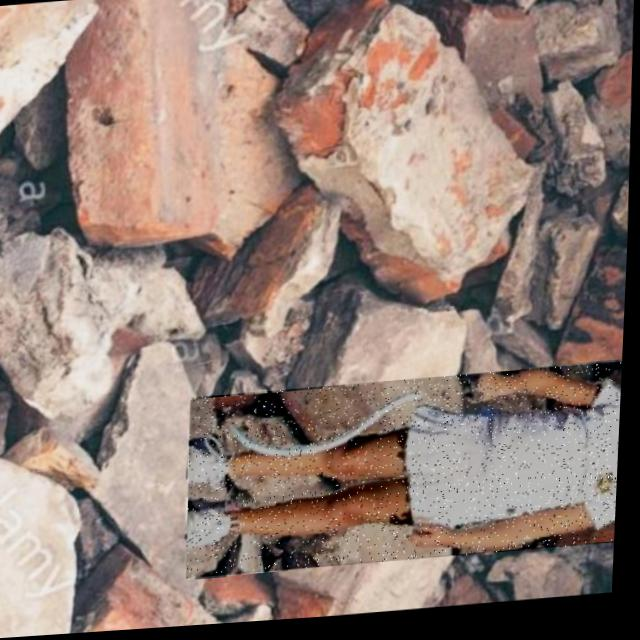Person in Rubble: (186, 369, 626, 581)
